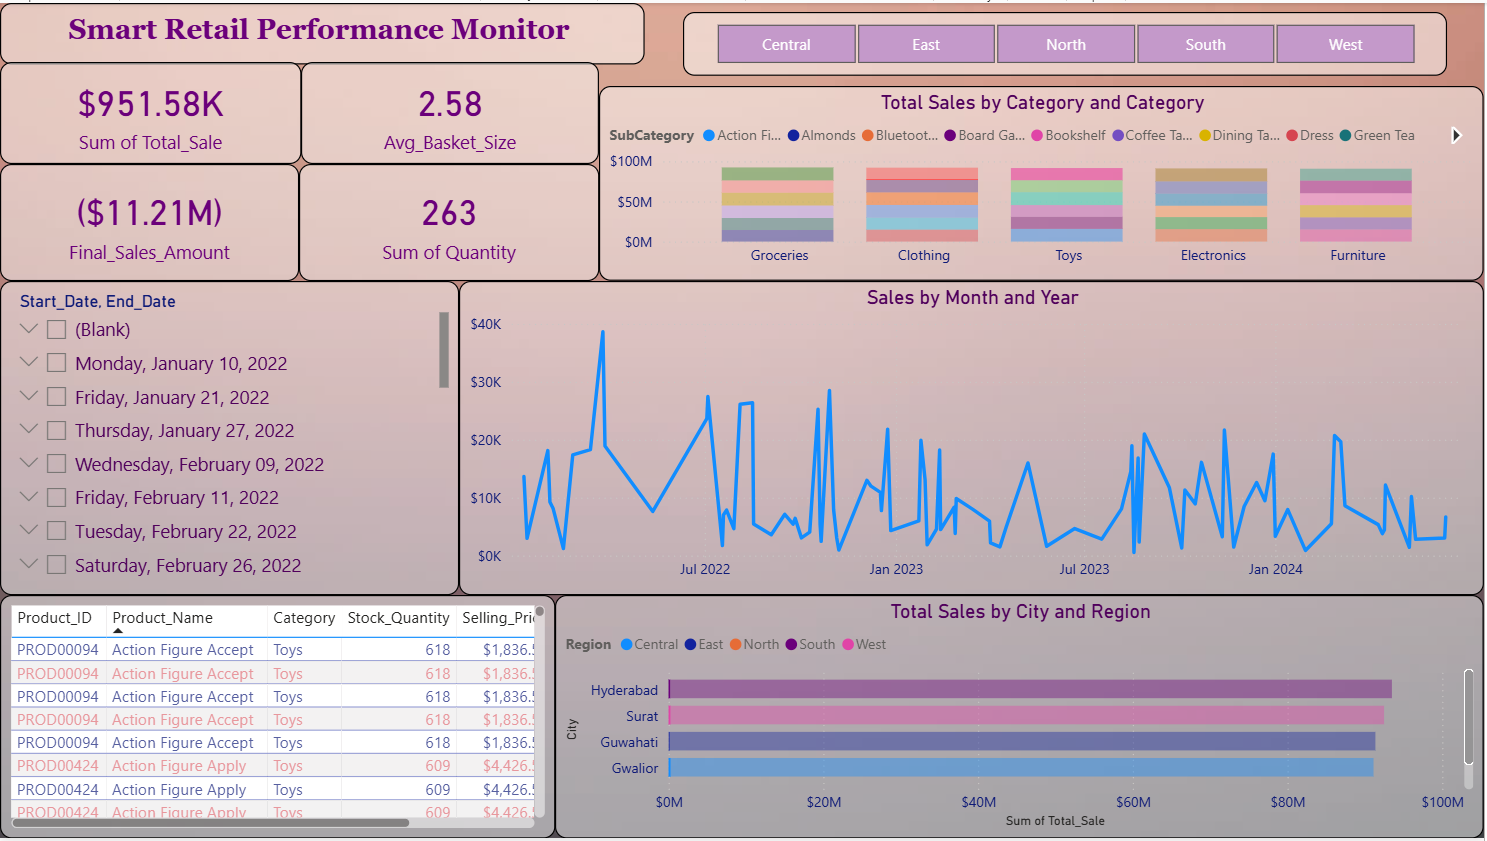

What the dashboard file says about the page in this screenshot:
{"tool":"powerbi","page":{"name":"Page 1","canvas":[1280,720],"ordinal":0},"visuals":[{"type":"textbox","box":[0,0,556.3,53.5],"z":0},{"type":"card","fields":{"Values":["Sum(sales.Total_Sale)"]},"box":[0,50.9,259.6,88],"z":1000},{"type":"card","fields":{"Values":["campaigns.Final_Sales_Amount"]},"box":[0,138.9,257.9,100.9],"z":2000},{"type":"card","fields":{"Values":["Sum(sales.Quantity)"]},"box":[257.9,138.9,258.8,100.9],"z":3000},{"type":"card","fields":{"Values":["campaigns.Avg_Basket_Size"]},"box":[259.6,50.9,257,88],"z":4000},{"type":"lineChart","title":"Sales by Month and Year","fields":{"Y":["Sum(sales.Total_Sale)"],"Category":["sales.Date.Variation.Date Hierarchy.Year","sales.Date.Variation.Date Hierarchy.Quarter","sales.Date.Variation.Date Hierarchy.Month","sales.Date.Variation.Date Hierarchy.Day"]},"box":[395.9,239.8,884.1,270.8],"z":5000},{"type":"barChart","title":" Total Sales by City and Region","fields":{"Y":["Sum(sales.Total_Sale)"],"Category":["stores.City"],"Series":["stores.Region"]},"box":[478.7,510.6,801.3,209.6],"z":6000},{"type":"columnChart","title":"Total Sales by Category and Category","fields":{"Category":["products.Category"],"Y":["Sum(sales.Total_Sale)"],"Series":["products.Subcategory"]},"box":[516.7,71.6,763.3,168.2],"z":7000},{"type":"tableEx","fields":{"Values":["products.Product_ID","products.Product_Name","products.Category","products.Stock_Quantity","products.Selling_Price","products.Cost_Price","stores.Region"]},"box":[0,510.6,478.7,209.6],"z":8000},{"type":"slicer","fields":{"Values":["campaigns.Start_Date","campaigns.End_Date"]},"box":[0,239.8,395.9,270.8],"z":9000},{"type":"slicer","fields":{"Values":["stores.Region"]},"box":[589.1,7.8,659,55.2],"z":9001}]}

Visuals, with their boxes in screenshot pixels (x1, y1, x2, y2), scaled from the page's 1280x720 canvas onto the 1487x841 screenshot:
textbox: box=[0, 0, 646, 62]
card - Sum(sales.Total_Sale): box=[0, 59, 302, 162]
card - campaigns.Final_Sales_Amount: box=[0, 162, 300, 280]
card - Sum(sales.Quantity): box=[300, 162, 600, 280]
card - campaigns.Avg_Basket_Size: box=[302, 59, 600, 162]
"Sales by Month and Year" lineChart: box=[460, 280, 1486, 596]
" Total Sales by City and Region" barChart: box=[556, 596, 1486, 840]
"Total Sales by Category and Category" columnChart: box=[600, 84, 1486, 280]
tableEx - products.Product_ID x products.Product_Name: box=[0, 596, 556, 840]
slicer - campaigns.Start_Date x campaigns.End_Date: box=[0, 280, 460, 596]
slicer - stores.Region: box=[684, 9, 1450, 74]
